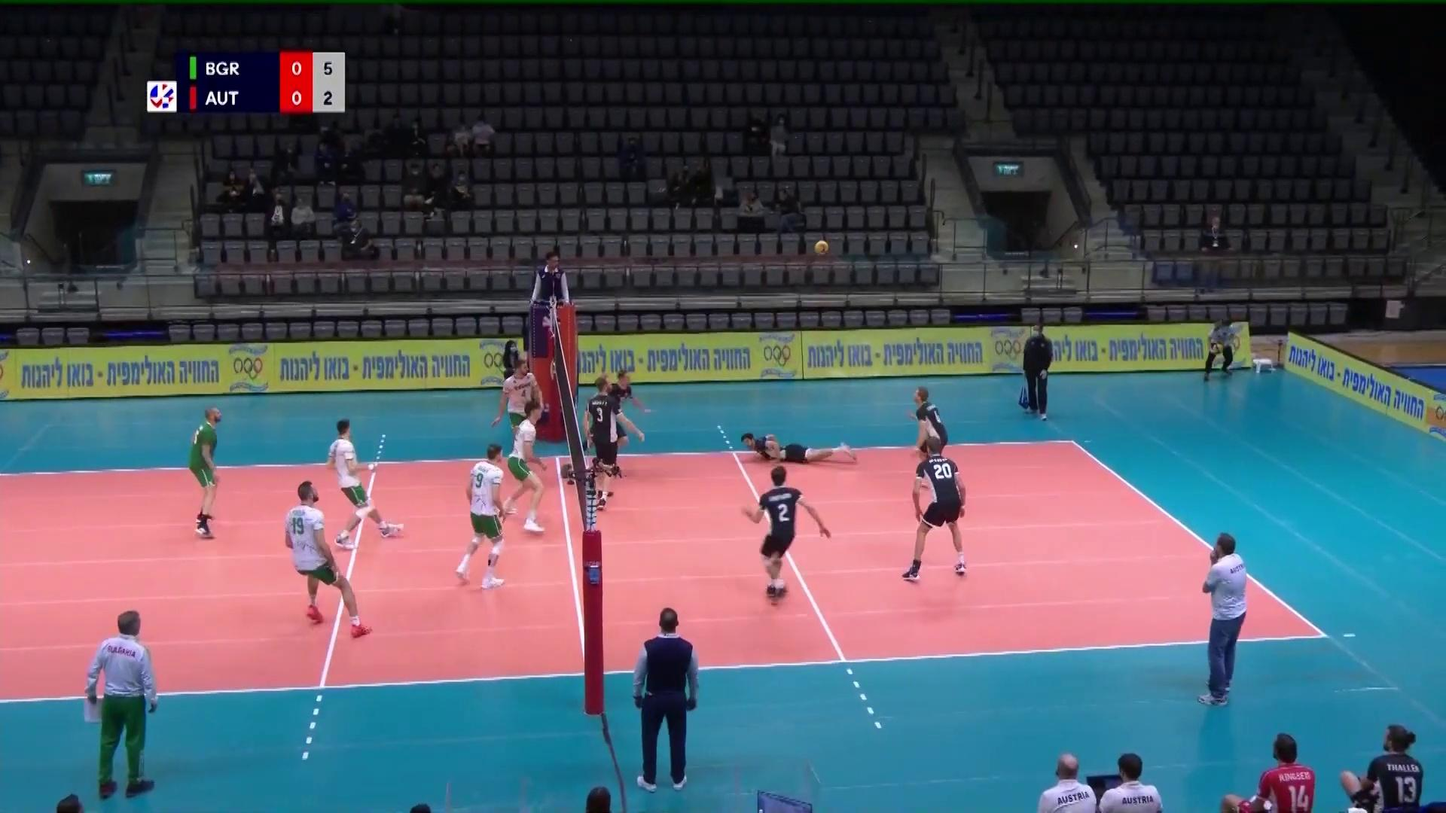ball: (815, 240, 829, 255)
